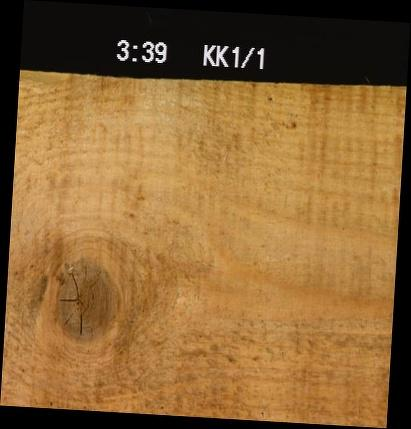sound_knot: (49, 253, 125, 344)
